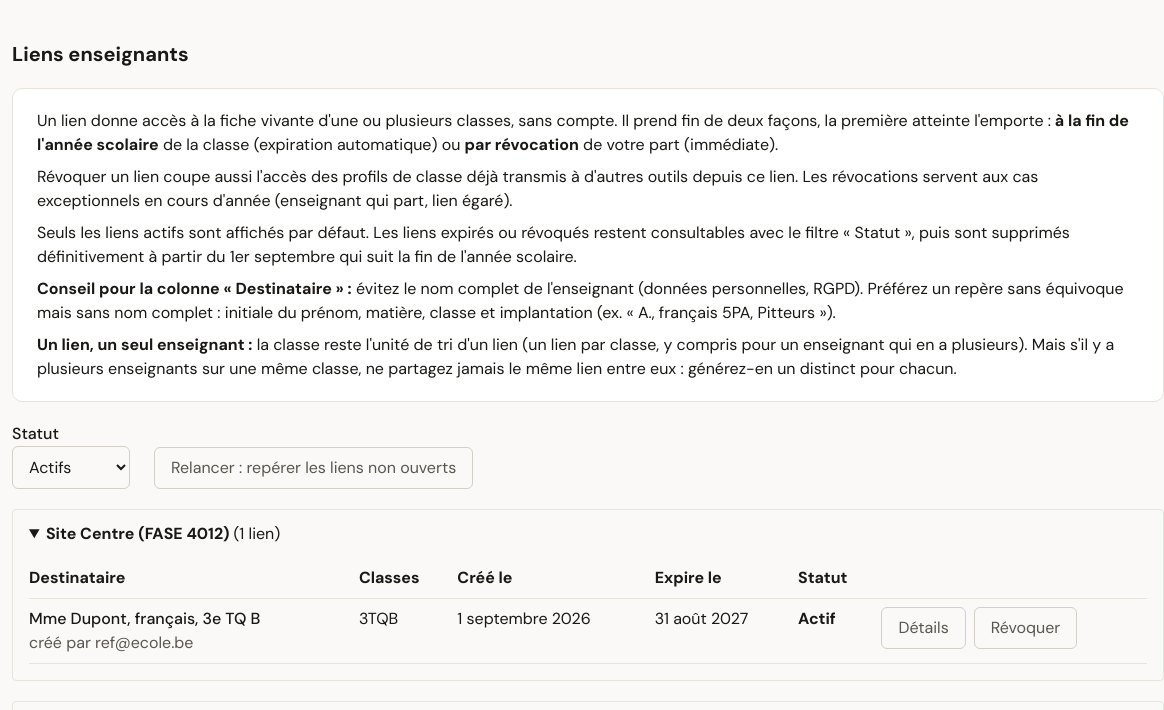
page Liens enseignants › le repérage des liens non ouverts est masqué par défaut, filtre désactivé à la fermeture
Expected: the field labelled "Inactifs depuis plus de" is not shown
Click the button "Relancer : repérer les liens non ouverts". click: (314,468)
box: [154,447,473,489]
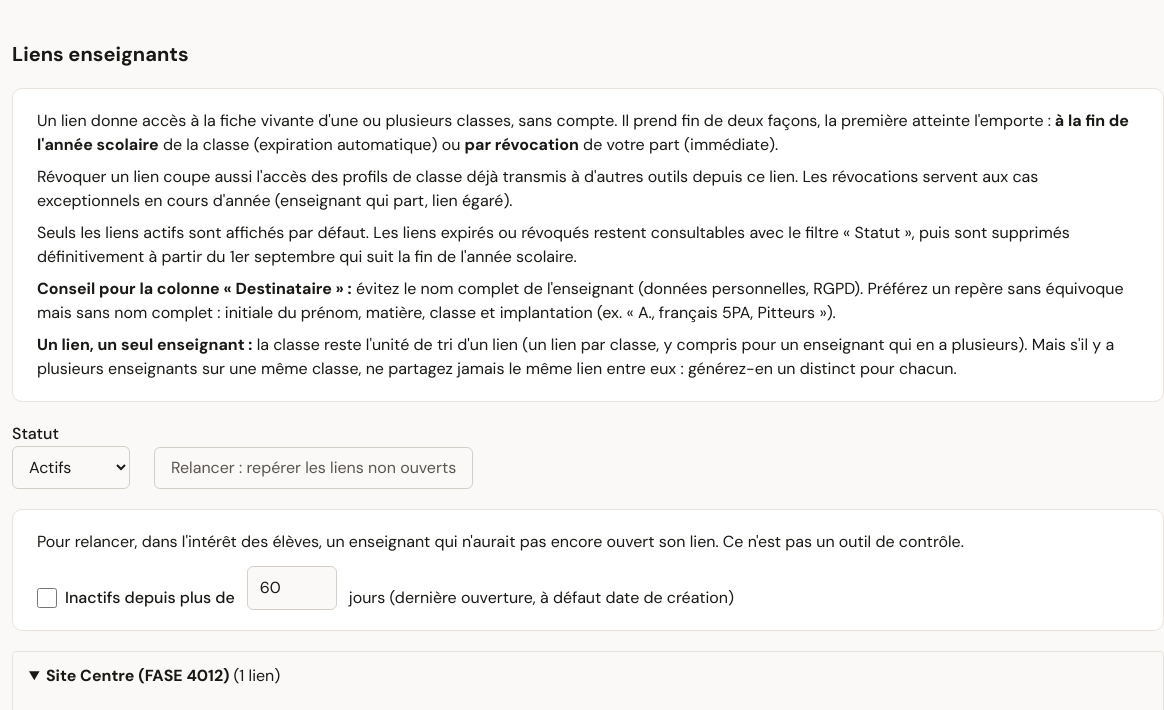
avec un seuil démesuré, plus aucun lien n'est « inactif » : le filtre est bien appliqué
Click the checkbox labelled "Inactifs depuis plus de". click: (47,598)
box: [37,588,57,608]
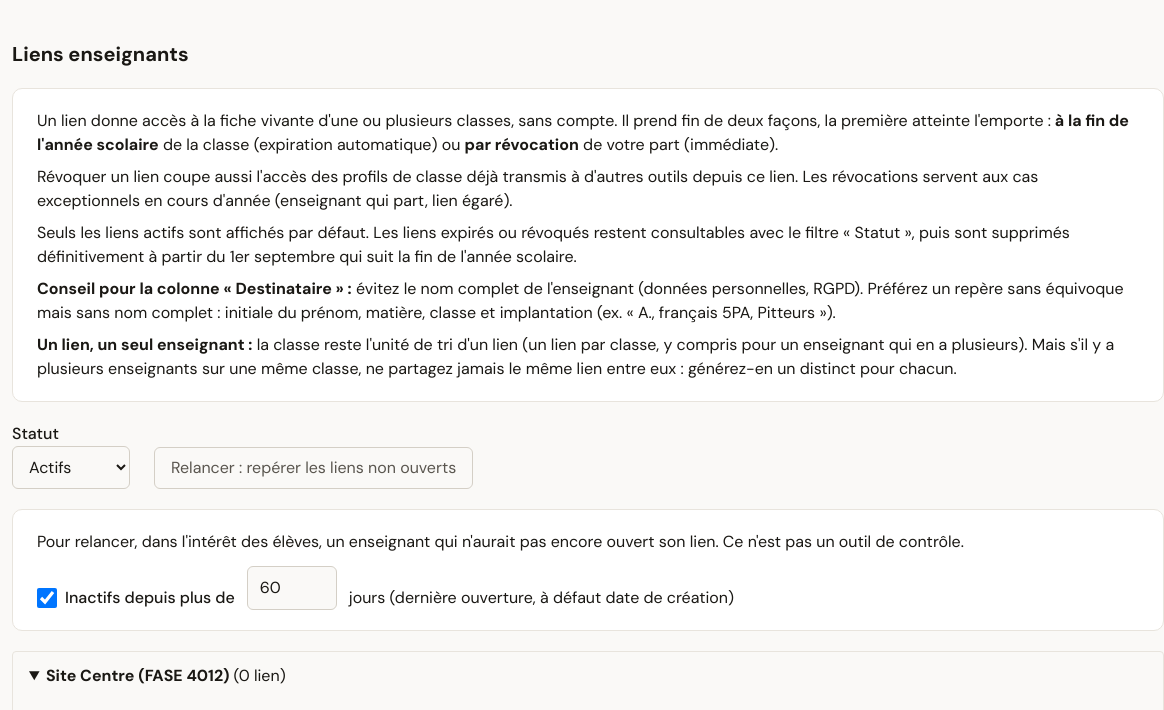
Replace the text in the number field named "Nombre de jours d'inactivité" with "100000". click: (292,588)
box: [247,566,337,610]
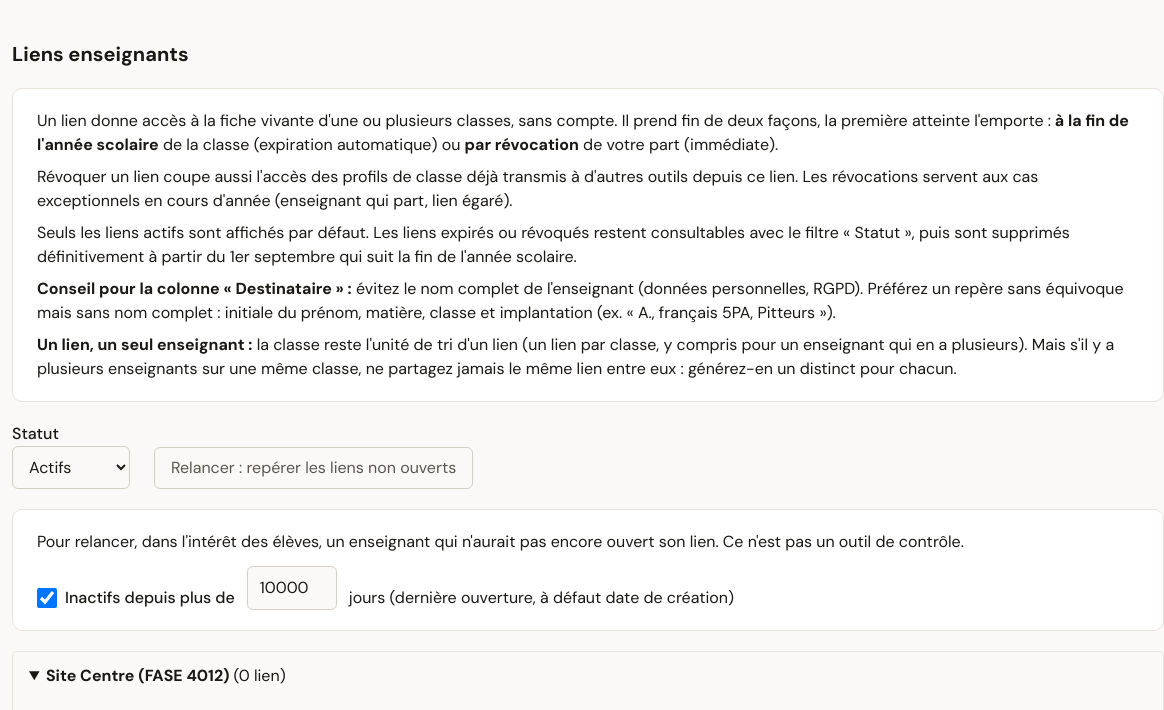
Expected: the text "Mme Dupont" is not shown
Click the button "Relancer : repérer les liens non ouverts". click: (314,468)
box: [154,447,473,489]
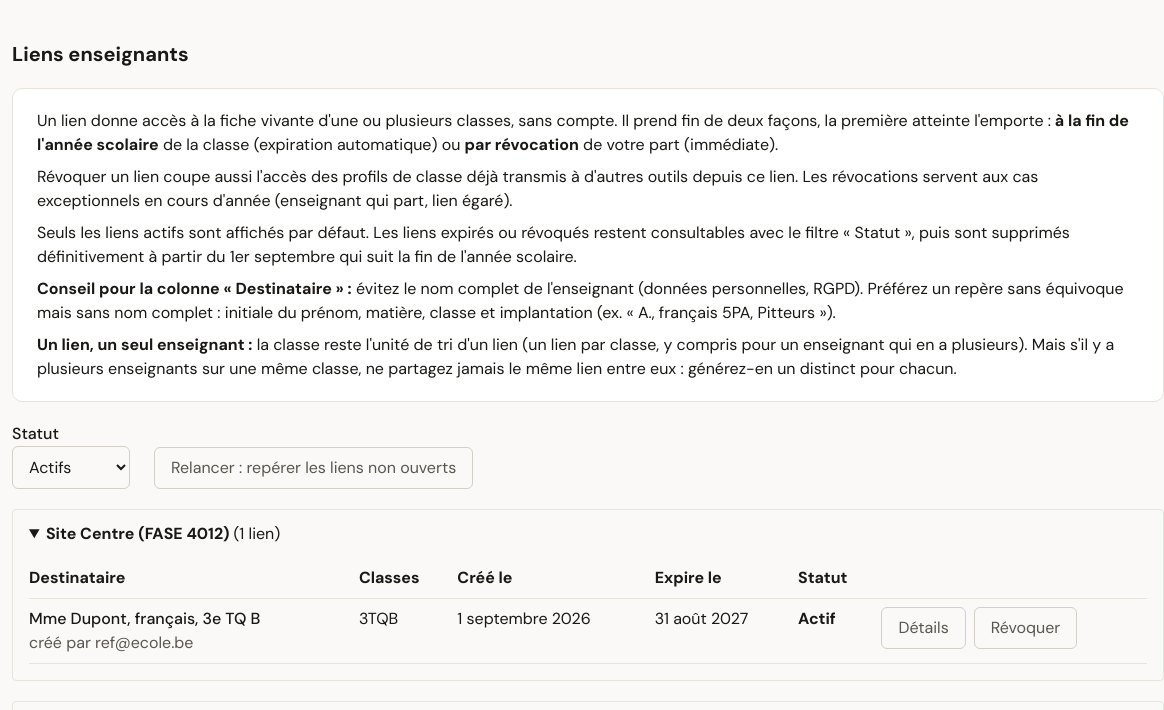
Expected: the column heading "Mme Dupont, français, 3e TQ B créé par ref@ecole.be" is shown, [29,599,359,664]
